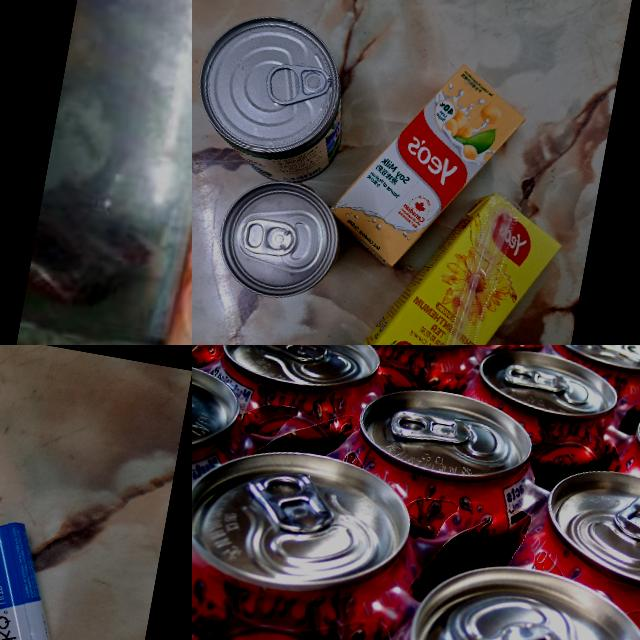aba de lata: (236, 457, 341, 538), (388, 404, 474, 449), (262, 58, 332, 112), (484, 613, 617, 640), (239, 216, 298, 260), (502, 361, 568, 393), (611, 484, 640, 548), (252, 345, 331, 364)
bateria: (0, 515, 91, 640)
caixinha: (324, 45, 532, 285), (353, 172, 566, 345), (153, 0, 192, 345)
lata: (192, 5, 359, 190), (211, 172, 348, 306)
